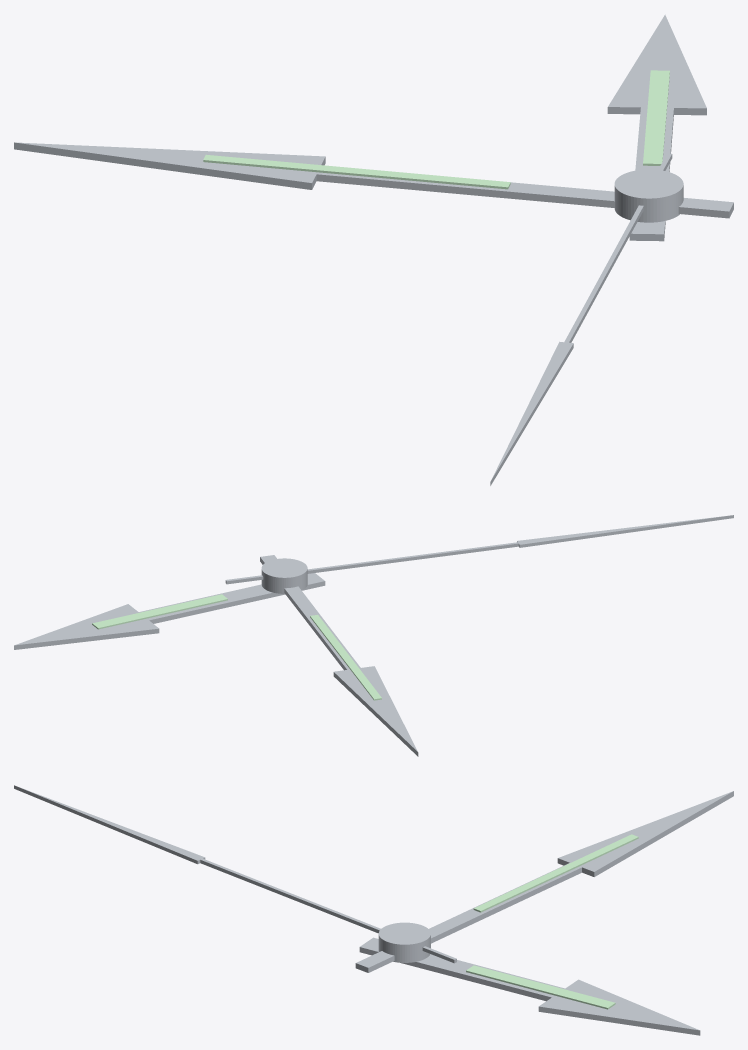
File: hands-broad-arrow-42.glb
3 views of the same model, one above another, from view 1: azimuth 30°, elevation 25°; view 2: azimuth 150°, elevation 25°; view 3: azimuth 270°, elevation 25° (orthographic). The views are drawn at different scales.
Parts seen in each view (by area): view 1: DD_HAND_MINUTE, DD_HAND_HOUR, DD_HAND_HUB, DD_HAND_SECONDS, DD_HAND_MINUTE_LUME, DD_HAND_HOUR_LUME; view 2: DD_HAND_HOUR, DD_HAND_MINUTE, DD_HAND_SECONDS, DD_HAND_HUB, DD_HAND_HOUR_LUME, DD_HAND_MINUTE_LUME; view 3: DD_HAND_MINUTE, DD_HAND_HOUR, DD_HAND_SECONDS, DD_HAND_HUB, DD_HAND_HOUR_LUME, DD_HAND_MINUTE_LUME.
Boxes of the visible parts, x1,y1,x2,y2 form: DD_HAND_MINUTE: [14, 142, 733, 218]; DD_HAND_HOUR: [607, 14, 706, 241]; DD_HAND_HUB: [614, 169, 683, 222]; DD_HAND_SECONDS: [490, 153, 672, 485]; DD_HAND_MINUTE_LUME: [203, 154, 510, 189]; DD_HAND_HOUR_LUME: [643, 70, 669, 165]; DD_HAND_HOUR: [14, 573, 325, 649]; DD_HAND_MINUTE: [260, 555, 418, 756]; DD_HAND_SECONDS: [225, 515, 733, 584]; DD_HAND_HUB: [261, 558, 307, 593]; DD_HAND_HOUR_LUME: [92, 594, 227, 629]; DD_HAND_MINUTE_LUME: [310, 614, 381, 700]; DD_HAND_MINUTE: [355, 791, 733, 972]; DD_HAND_HOUR: [359, 937, 700, 1035]; DD_HAND_SECONDS: [14, 785, 456, 963]; DD_HAND_HUB: [378, 922, 430, 962]; DD_HAND_HOUR_LUME: [466, 965, 615, 1009]; DD_HAND_MINUTE_LUME: [473, 834, 638, 912].
Size of the model in its own units: 14.21 by 0.685 by 18.59.
